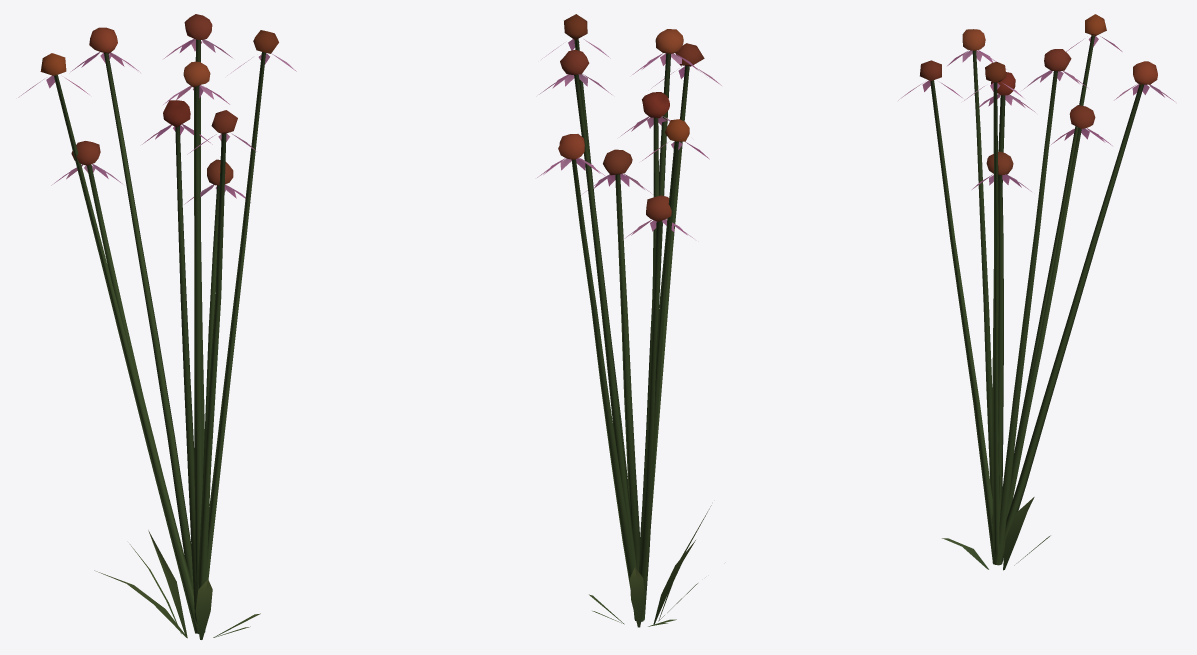
The model's file is coneflower.glb.
3 renders of one model, left to right at view 1: azimuth 30°, elevation 25°; view 2: azimuth 150°, elevation 25°; view 3: azimuth 270°, elevation 25°, orthographic. The views are drawn at different scales.
Parts seen in each view (by area): view 1: coneflower, coneflower-lo; view 2: coneflower, coneflower-lo; view 3: coneflower, coneflower-lo.
Boxes of the visible parts, <box> form: coneflower: <box>51,14,250,639</box>; coneflower-lo: <box>18,30,296,637</box>; coneflower: <box>537,29,698,627</box>; coneflower-lo: <box>541,14,721,625</box>; coneflower: <box>942,29,1174,570</box>; coneflower-lo: <box>898,14,1122,565</box>.
Bounding box in the file's own units: 0.5681 × 0.9454 × 0.5808.
